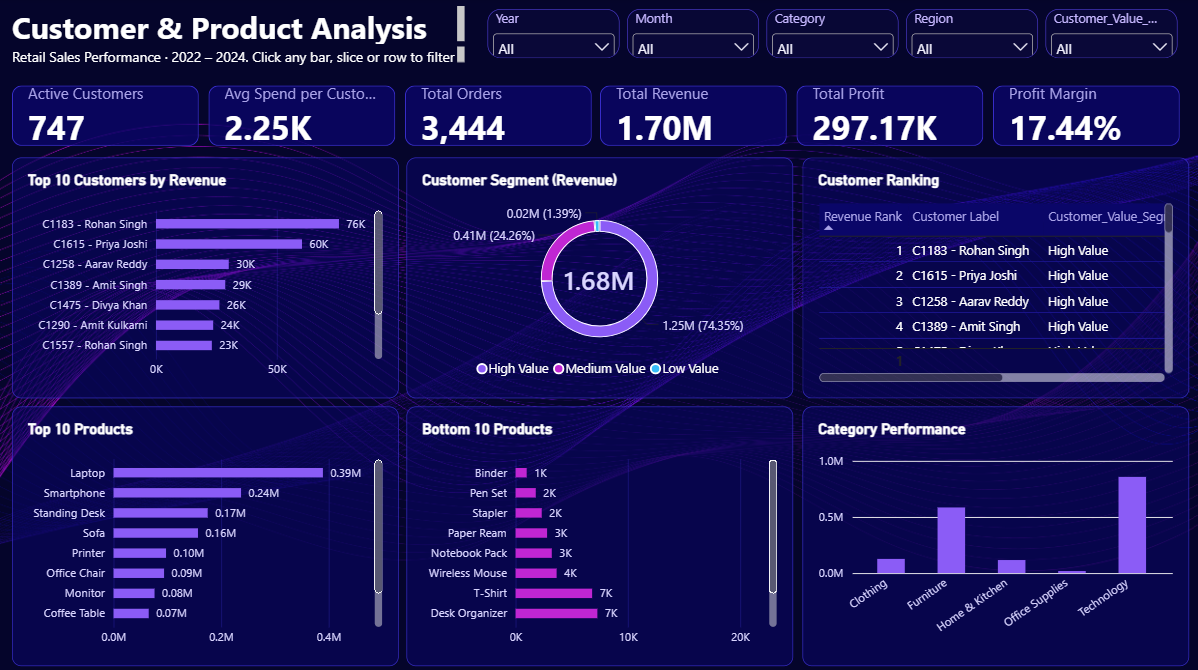

Layout of this report page (visuals, bound fields, positions):
{"tool":"powerbi","page":{"name":"Customer & Product","canvas":[1280,720],"ordinal":1},"visuals":[{"type":"slicer","title":"Year","fields":{"Values":["DimDate.Year"]},"box":[520,12,140,52],"z":0},{"type":"slicer","title":"Year","fields":{"Values":["DimDate.Month"]},"box":[668,12,140,52],"z":1},{"type":"slicer","title":"Year","fields":{"Values":["FactSales.Ship_Region"]},"box":[964,12,140,52],"z":2},{"type":"slicer","title":"Year","fields":{"Values":["DimProduct.Category"]},"box":[816,12,140,52],"z":3},{"type":"textbox","box":[16,10,480,40],"z":4},{"type":"textbox","box":[16,52.5,480,20],"z":5},{"type":"slicer","title":"Year","fields":{"Values":["DimCustomer.Customer_Value_Segment"]},"box":[1112,12,140,52],"z":6},{"type":"cardVisual","fields":{"Data":["FactSales.Active Customers"]},"box":[16,94,198,64],"z":7},{"type":"cardVisual","fields":{"Data":["FactSales.Avg Spend per Customer"]},"box":[224.3,94,198,64],"z":8},{"type":"cardVisual","fields":{"Data":["FactSales.Total Orders"]},"box":[432,94,198,64],"z":9},{"type":"cardVisual","fields":{"Data":["FactSales.Total Revenue"]},"box":[640,94,198,64],"z":10},{"type":"cardVisual","fields":{"Data":["FactSales.Total Profit"]},"box":[848,94,198,64],"z":11},{"type":"cardVisual","fields":{"Data":["FactSales.Profit Margin"]},"box":[1056,94,198,64],"z":12},{"type":"clusteredBarChart","title":"Top 10 Customers by Revenue","fields":{"Category":["DimCustomer.Customer Label"],"Y":["FactSales.Total Revenue"]},"box":[16,170,410,255],"z":13},{"type":"donutChart","title":"Customer Segment (Revenue)","fields":{"Category":["DimCustomer.Customer_Value_Segment"],"Y":["FactSales.Total Revenue"]},"box":[435,170,410,255],"z":14},{"type":"tableEx","title":"Customer Ranking","fields":{"Values":["FactSales.Revenue Rank","DimCustomer.Customer Label","DimCustomer.Customer_Value_Segment","FactSales.Total Orders","FactSales.Total Revenue","FactSales.Revenue Share %"]},"box":[854,170,410,255],"z":15},{"type":"clusteredBarChart","title":"Top 10 Products","fields":{"Category":["DimProduct.Product_Name"],"Y":["FactSales.Total Revenue"]},"box":[16,435,410,275],"z":16},{"type":"clusteredBarChart","title":"Bottom 10 Products","fields":{"Category":["DimProduct.Product_Name"],"Y":["FactSales.Total Revenue"]},"box":[435,435,410,275],"z":17},{"type":"clusteredColumnChart","title":"Category Performance","fields":{"Category":["DimProduct.Category","DimProduct.Product_Name"],"Y":["FactSales.Total Revenue"]},"box":[854,435,410,275],"z":18}]}

Visuals, with their boxes in screenshot pixels (x1, y1, x2, y2), scaled from the page's 1280x720 canvas onto the 1198x670 screenshot:
"Year" slicer: bbox=[487, 11, 618, 60]
"Year" slicer: bbox=[625, 11, 756, 60]
"Year" slicer: bbox=[902, 11, 1033, 60]
"Year" slicer: bbox=[764, 11, 895, 60]
textbox: bbox=[15, 9, 464, 47]
textbox: bbox=[15, 49, 464, 67]
"Year" slicer: bbox=[1041, 11, 1172, 60]
cardVisual - FactSales.Active Customers: bbox=[15, 87, 200, 147]
cardVisual - FactSales.Avg Spend per Customer: bbox=[210, 87, 395, 147]
cardVisual - FactSales.Total Orders: bbox=[404, 87, 590, 147]
cardVisual - FactSales.Total Revenue: bbox=[599, 87, 784, 147]
cardVisual - FactSales.Total Profit: bbox=[794, 87, 979, 147]
cardVisual - FactSales.Profit Margin: bbox=[988, 87, 1174, 147]
"Top 10 Customers by Revenue" clusteredBarChart: bbox=[15, 158, 399, 395]
"Customer Segment (Revenue)" donutChart: bbox=[407, 158, 791, 395]
"Customer Ranking" tableEx: bbox=[799, 158, 1183, 395]
"Top 10 Products" clusteredBarChart: bbox=[15, 405, 399, 661]
"Bottom 10 Products" clusteredBarChart: bbox=[407, 405, 791, 661]
"Category Performance" clusteredColumnChart: bbox=[799, 405, 1183, 661]
